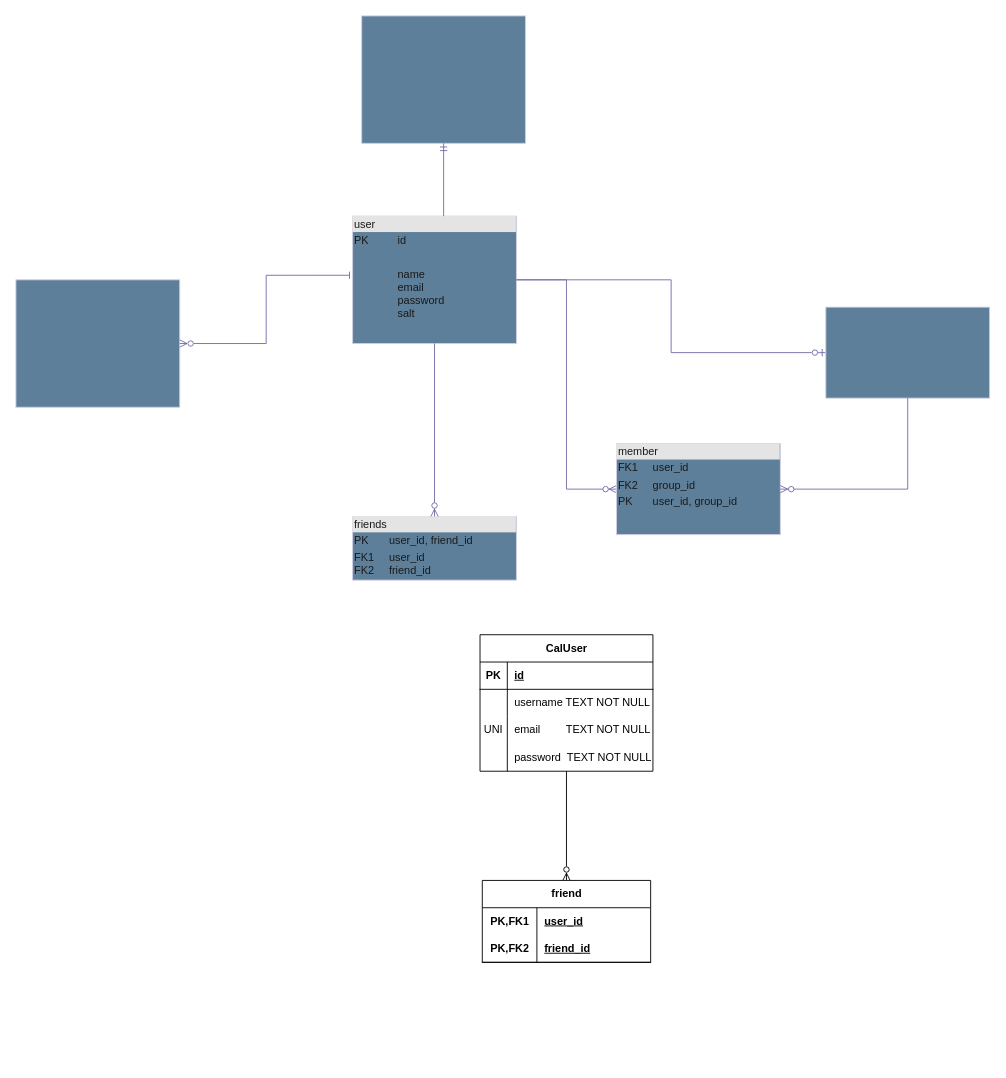
The diagram is 1006 pixels wide and 1078 high, and some of its shapes have lost their labels. The centre of each missing label's shape, as x and y in pixels:
"Appointment PK id FK1 FK2 user_id group.id begin DateTime end DateTime" goes at point 443,79.
"Availability PK id FK user_id creneau date" goes at point 97,343.
"group PK id FK1 owner_id name password" goes at point 907,352.
